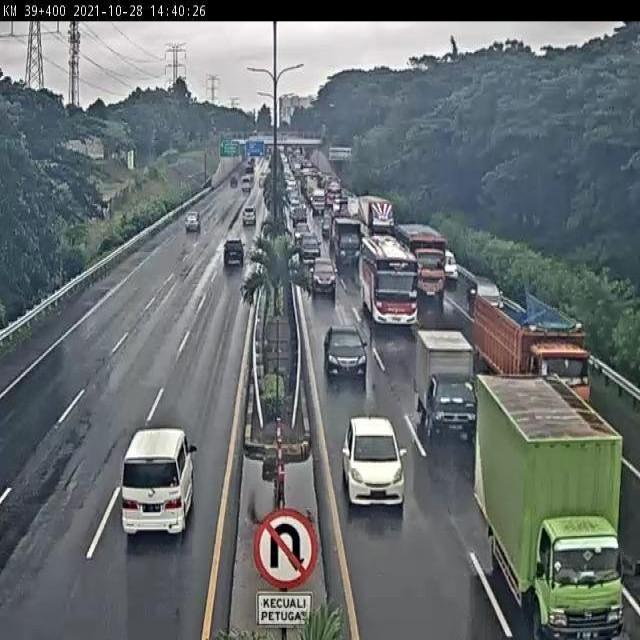big bus: (356, 230, 424, 342)
